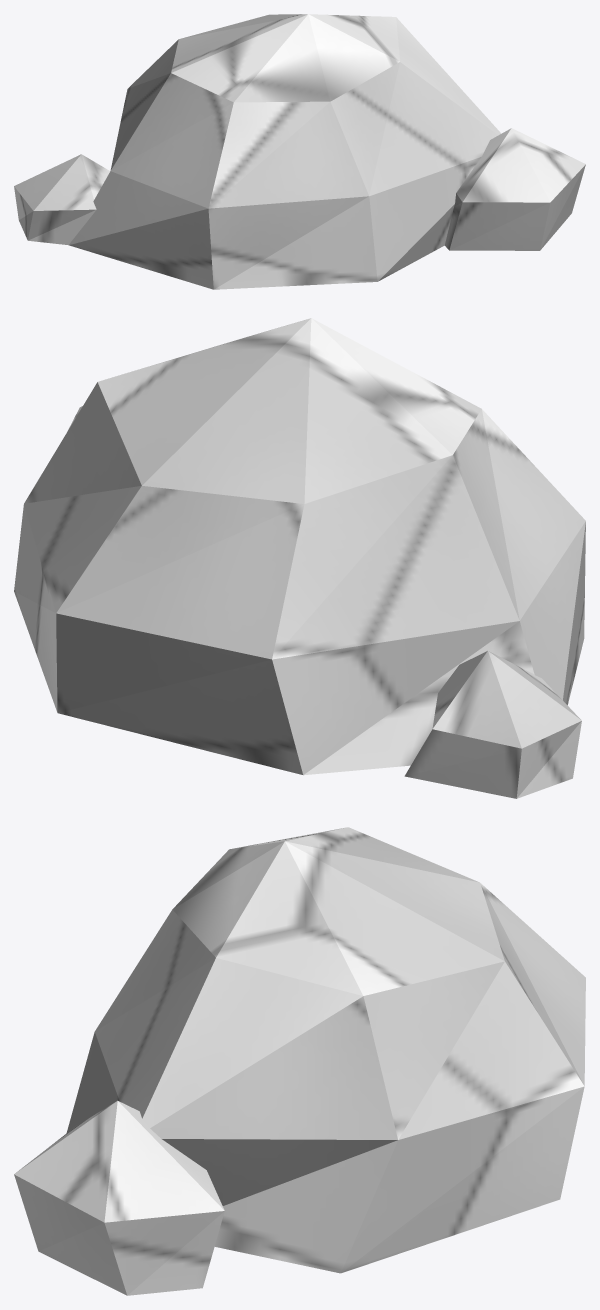
The model's file is boulder_6.obj.
3 views of the same model, one above another, from view 1: azimuth 30°, elevation 25°; view 2: azimuth 150°, elevation 25°; view 3: azimuth 270°, elevation 25° (orthographic). The views are drawn at different scales.
Visible parts, largest first — view 1: boulder_6; view 2: boulder_6; view 3: boulder_6.
Part boxes in pixels (x1=…): boulder_6: x1=14, y1=14, x2=585, y2=289; boulder_6: x1=14, y1=318, x2=585, y2=798; boulder_6: x1=14, y1=827, x2=585, y2=1295.
Size of the model in its own units: 0.8977 by 0.4079 by 0.691.
